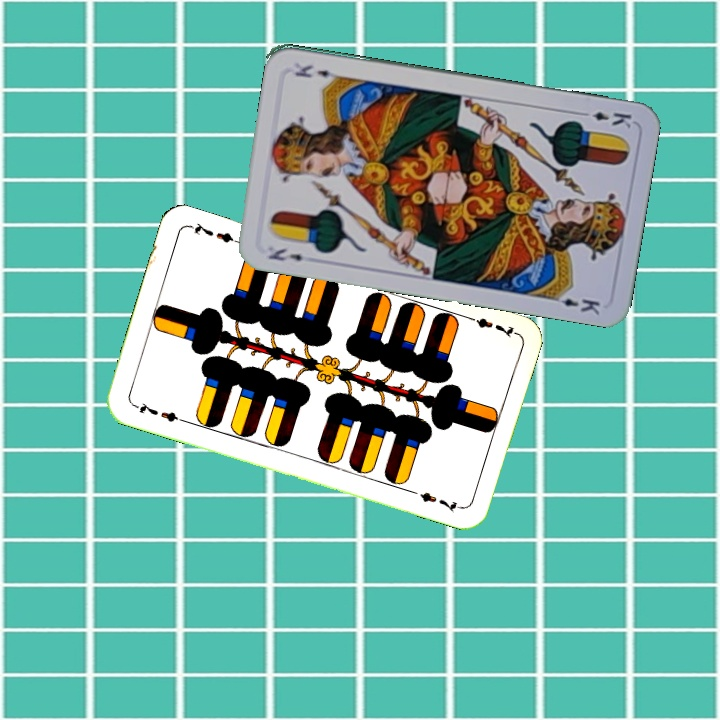E7: (460, 311, 518, 340), (129, 398, 187, 425)
EK: (576, 108, 635, 130), (264, 244, 306, 264)
